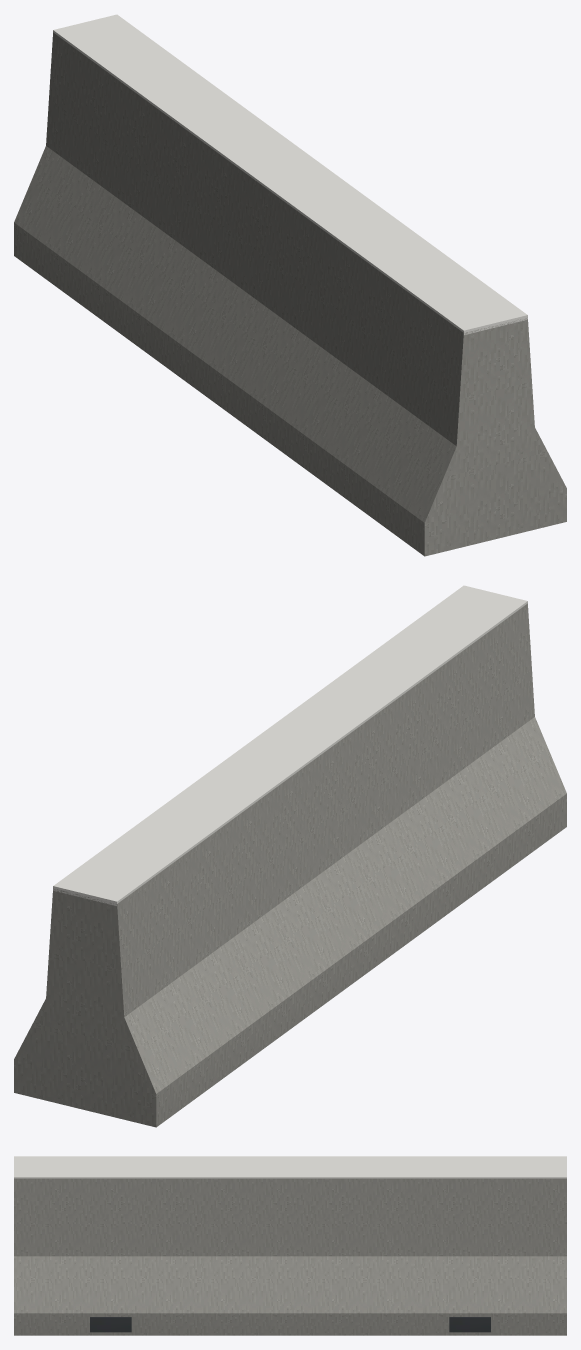
File: street-block_high.glb
The picture shows the model from 3 angles, top to bottom: view 1: azimuth 30°, elevation 25°; view 2: azimuth 150°, elevation 25°; view 3: azimuth 270°, elevation 25°; orthographic projection. The views are drawn at different scales.
Visible parts, largest first — view 1: concrete, board-face; view 2: concrete, board-face; view 3: concrete, board-face, dark-steel.
Part boxes in pixels (left/top/right/bottom): concrete: left=14, top=32, right=566, bottom=556; board-face: left=53, top=14, right=527, bottom=334; concrete: left=14, top=603, right=566, bottom=1127; board-face: left=53, top=585, right=527, bottom=905; concrete: left=14, top=1178, right=566, bottom=1335; board-face: left=14, top=1156, right=566, bottom=1178; dark-steel: left=90, top=1317, right=490, bottom=1332.
Size of the model in its own units: 0.8059 by 1.16 by 4.
Materials: 3 (2 with a texture image).
